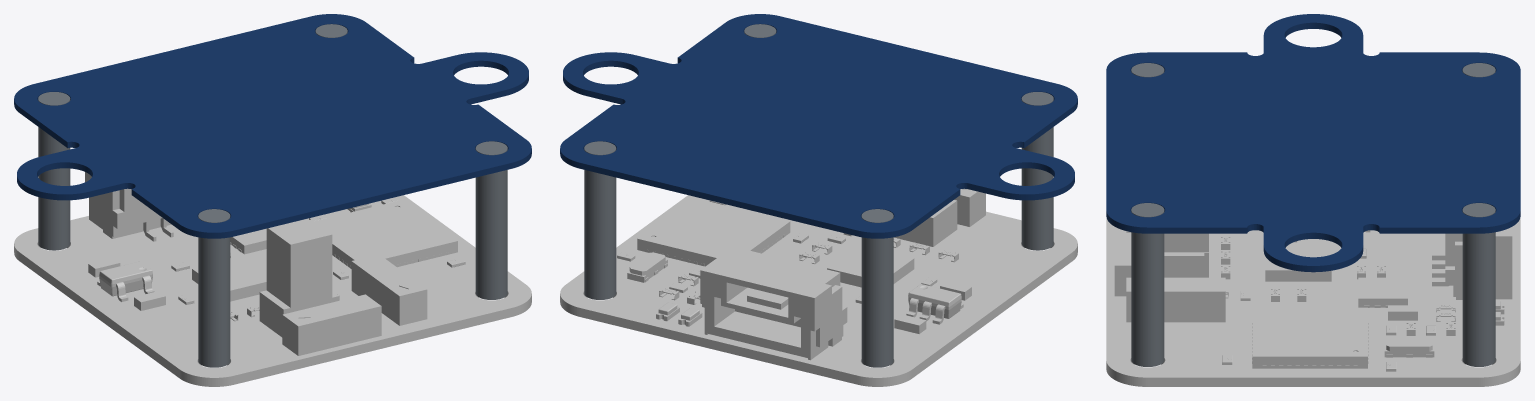
The picture shows the model from 3 angles, left to right: view 1: azimuth 30°, elevation 25°; view 2: azimuth 150°, elevation 25°; view 3: azimuth 270°, elevation 25°; orthographic projection. The views are drawn at different scales.
Visible parts, largest first — view 1: node2, node1, node5, node0, node4; view 2: node2, node1, node4, node3, node5; view 3: node2, node1, node0, node3, node4, node5.
Part boxes in pixels (x1=…): node2: x1=14, y1=14, x2=531, y2=238; node1: x1=14, y1=172, x2=531, y2=386; node5: x1=198, y1=209, x2=230, y2=367; node0: x1=475, y1=141, x2=507, y2=299; node4: x1=38, y1=92, x2=70, y2=250; node2: x1=560, y1=14, x2=1077, y2=238; node1: x1=560, y1=188, x2=1077, y2=386; node4: x1=861, y1=209, x2=893, y2=367; node3: x1=584, y1=141, x2=616, y2=299; node5: x1=1021, y1=92, x2=1053, y2=250; node2: x1=1106, y1=14, x2=1520, y2=272; node1: x1=1106, y1=219, x2=1520, y2=386; node0: x1=1131, y1=203, x2=1164, y2=366; node3: x1=1462, y1=203, x2=1495, y2=366; node4: x1=1462, y1=63, x2=1495, y2=77; node5: x1=1131, y1=63, x2=1164, y2=77.
Size of the model in its own units: 0.036 by 0.025 by 0.0106.
